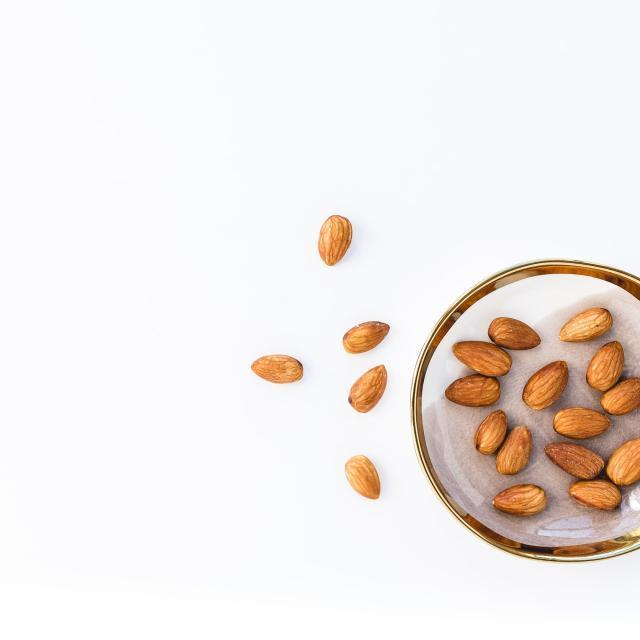almond: (450, 339, 516, 379), (544, 441, 606, 481), (524, 360, 570, 409), (557, 306, 614, 343), (316, 212, 355, 265), (346, 363, 385, 415), (496, 425, 534, 477), (555, 407, 613, 439), (587, 341, 625, 389), (341, 321, 393, 355), (492, 484, 549, 515), (250, 352, 305, 384), (447, 374, 502, 406), (344, 454, 381, 499), (489, 317, 541, 349), (570, 481, 623, 512), (599, 375, 640, 415), (475, 411, 509, 456), (607, 440, 640, 485)
